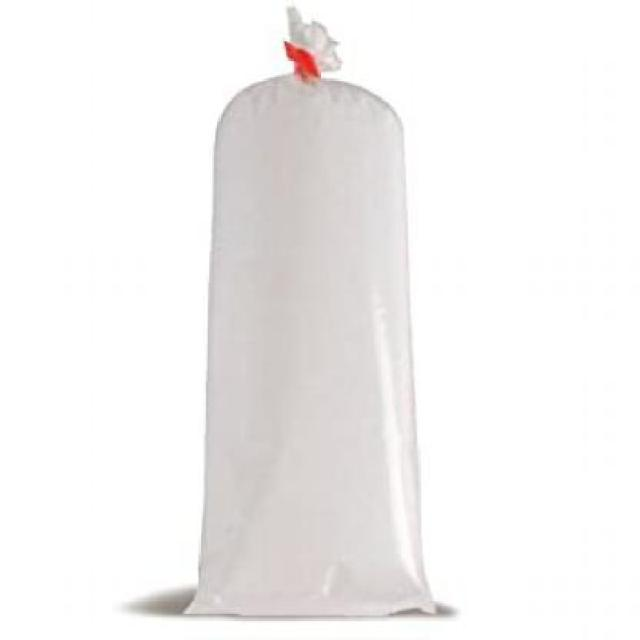plastic bag: (183, 39, 449, 628)
